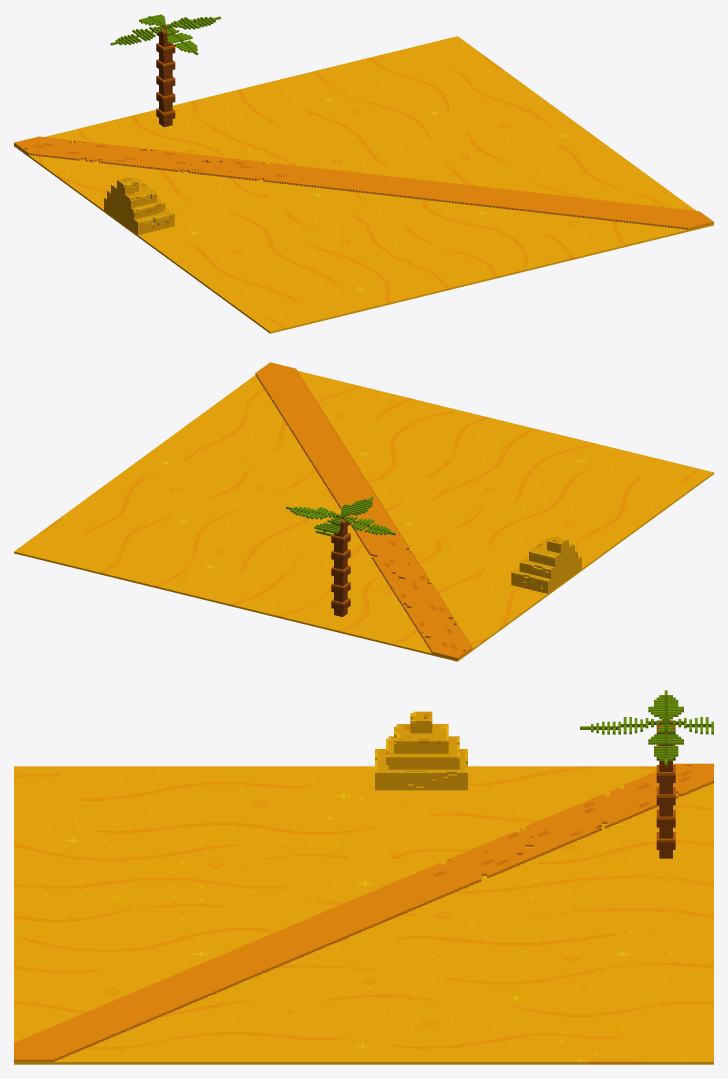
The model's file is shadow-0.obj.
The picture shows the model from 3 angles, top to bottom: view 1: azimuth 30°, elevation 25°; view 2: azimuth 150°, elevation 25°; view 3: azimuth 270°, elevation 25°; orthographic projection. The views are drawn at different scales.
Size of the model in its own units: 25.6 by 5.5 by 25.6.
1 material, 1 textured.
